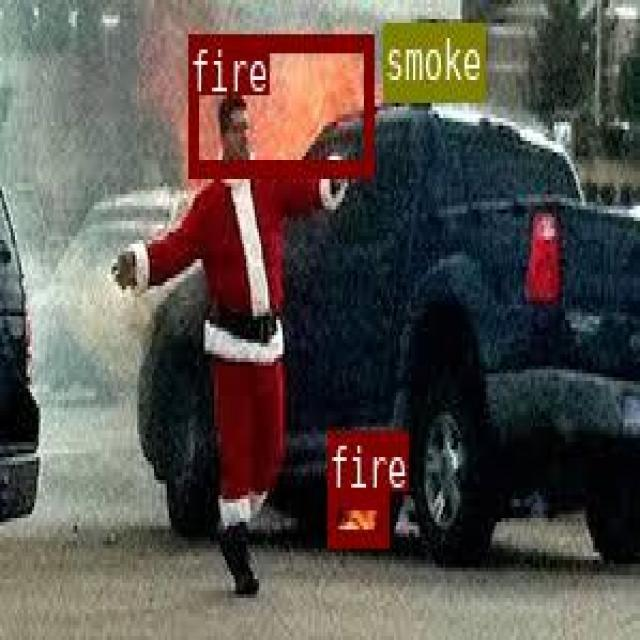fire: (186, 34, 372, 173), (327, 489, 387, 541)
smoke: (382, 19, 483, 98)
